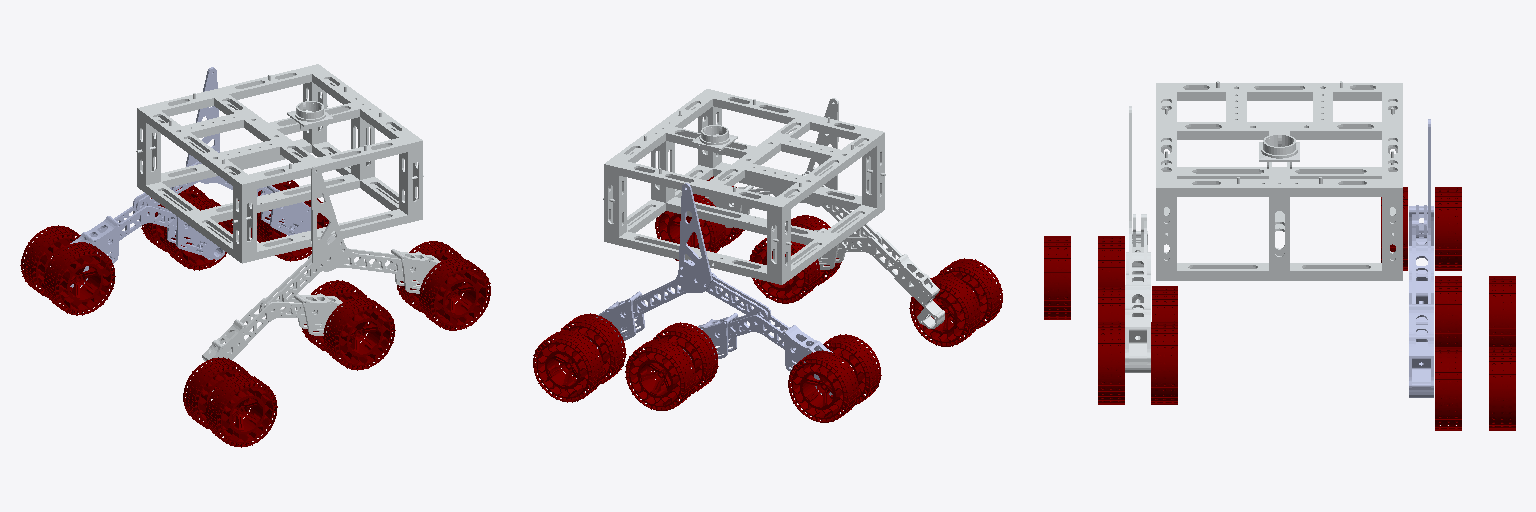
The robot description file, URDF, robot "rover_aug":
<?xml version="1.0" encoding="utf-8"?>
<!-- This URDF was automatically created by SolidWorks to URDF Exporter! Originally created by [author] ([email redacted]) 
     Commit Version: 1.6.0-1-g15f4949  Build Version: 1.6.7594.29634
     For more information, please see http://wiki.ros.org/sw_urdf_exporter -->
<robot
  name="rover_aug">
  <link
    name="base_link">
    <inertial>
      <origin
        xyz="-7.68865880621706E-05 -3.75493524628889E-06 0.595583448793911"
        rpy="0 0 0" />
      <mass
        value="12.7039342899441" />
      <inertia
        ixx="0.692252467134116"
        ixy="-5.63451292559757E-09"
        ixz="0.0100575847822606"
        iyy="0.743299764038894"
        iyz="8.67410154906556E-08"
        izz="1.15934417655828" />
    </inertial>
    <visual>
      <origin
        xyz="0 0 0"
        rpy="0 0 0" />
      <geometry>
        <mesh
          filename="package://rover_aug/meshes/base_link.STL" />
      </geometry>
      <material
        name="">
        <color
          rgba="0.898039215686275 0.917647058823529 0.929411764705882 1" />
      </material>
    </visual>
    <collision>
      <origin
        xyz="0 0 0"
        rpy="0 0 0" />
      <geometry>
        <mesh
          filename="package://rover_aug/meshes/base_link.STL" />
      </geometry>
    </collision>
  </link>
  <link
    name="front_right_sus">
    <inertial>
      <origin
        xyz="0.136433125534887 -0.0332393379583534 -0.0611547611979991"
        rpy="0 0 0" />
      <mass
        value="1.99138250908197" />
      <inertia
        ixx="0.0121364567649947"
        ixy="2.62695319158217E-08"
        ixz="0.00795796904621138"
        iyy="0.02723765710394"
        iyz="1.74744972853739E-09"
        izz="0.0151921384829287" />
    </inertial>
    <visual>
      <origin
        xyz="0 0 0"
        rpy="0 0 0" />
      <geometry>
        <mesh
          filename="package://rover_aug/meshes/front_right_sus.STL" />
      </geometry>
      <material
        name="">
        <color
          rgba="0.898039215686275 0.917647058823529 0.929411764705882 1" />
      </material>
    </visual>
    <collision>
      <origin
        xyz="0 0 0"
        rpy="0 0 0" />
      <geometry>
        <mesh
          filename="package://rover_aug/meshes/front_right_sus.STL" />
      </geometry>
    </collision>
  </link>
  <joint
    name="front_right_sus_joint"
    type="revolute">
    <origin
      xyz="-0.05 -0.31387 0.44008"
      rpy="0 0 0" />
    <parent
      link="base_link" />
    <child
      link="front_right_sus" />
    <axis
      xyz="0 1 0" />
    <limit
      lower="-0.22"
      upper="0.45"
      effort="10"
      velocity="10" />
  </joint>
  <link
    name="front_right_wheel">
    <inertial>
      <origin
        xyz="0.0370532323480084 -0.0303597313935384 -0.0651994919223058"
        rpy="0 0 0" />
      <mass
        value="1.34905188053119" />
      <inertia
        ixx="0.0041977586485634"
        ixy="-1.72864770841305E-08"
        ixz="-2.01407121899623E-08"
        iyy="0.00419775484691052"
        iyz="-2.33429746421604E-08"
        izz="0.00747592275269735" />
    </inertial>
    <visual>
      <origin
        xyz="0 0 0"
        rpy="0 0 0" />
      <geometry>
        <mesh
          filename="package://rover_aug/meshes/front_right_wheel.STL" />
      </geometry>
      <material
        name="">
        <color
          rgba="0.501960784313725 0 0 1" />
      </material>
    </visual>
    <collision>
      <origin
        xyz="0 0 0"
        rpy="0 0 0" />
      <geometry>
        <mesh
          filename="package://rover_aug/meshes/front_right_wheel.STL" />
      </geometry>
    </collision>
  </link>
  <joint
    name="front_right_wheel_joint"
    type="continuous">
    <origin
      xyz="0.39302 -0.09583 -0.18584"
      rpy="1.5708 1.3812 0" />
    <parent
      link="front_right_sus" />
    <child
      link="front_right_wheel" />
    <axis
      xyz="0 0 1" />
    <limit
      lower="-1.57"
      upper="1.57"
      effort="10"
      velocity="1" />
  </joint>
  <link
    name="rear_right_sus">
    <inertial>
      <origin
        xyz="0.0492053233838913 0.0223575540466921 -0.043374766413418"
        rpy="0 0 0" />
      <mass
        value="1.52083982765786" />
      <inertia
        ixx="0.00254373820317485"
        ixy="1.84922684741565E-08"
        ixz="-0.00185100721793512"
        iyy="0.0132812522483287"
        iyz="1.1745081092891E-08"
        izz="0.0108868095914462" />
    </inertial>
    <visual>
      <origin
        xyz="0 0 0"
        rpy="0 0 0" />
      <geometry>
        <mesh
          filename="package://rover_aug/meshes/rear_right_sus.STL" />
      </geometry>
      <material
        name="">
        <color
          rgba="0.898039215686275 0.917647058823529 0.929411764705882 1" />
      </material>
    </visual>
    <collision>
      <origin
        xyz="0 0 0"
        rpy="0 0 0" />
      <geometry>
        <mesh
          filename="package://rover_aug/meshes/rear_right_sus.STL" />
      </geometry>
    </collision>
  </link>
  <joint
    name="rear_right_sus_joint"
    type="revolute">
    <origin
      xyz="-0.18489 -0.052628 -0.11922"
      rpy="0 0 0" />
    <parent
      link="front_right_sus" />
    <child
      link="rear_right_sus" />
    <axis
      xyz="0 1 0" />
    <limit
      lower="0"
      upper="0.25"
      effort="10"
      velocity="1" />
  </joint>
  <link
    name="mid_right_wheel">
    <inertial>
      <origin
        xyz="-0.0147094140532489 -0.0397799348111056 -0.06519949189067"
        rpy="0 0 0" />
      <mass
        value="1.34905188071954" />
      <inertia
        ixx="0.00419775865036484"
        ixy="-1.72887490930461E-08"
        ixz="-2.01419243991342E-08"
        iyy="0.00419775484577203"
        iyz="-2.33428948088508E-08"
        izz="0.00747592275337244" />
    </inertial>
    <visual>
      <origin
        xyz="0 0 0"
        rpy="0 0 0" />
      <geometry>
        <mesh
          filename="package://rover_aug/meshes/mid_right_wheel.STL" />
      </geometry>
      <material
        name="">
        <color
          rgba="0.501960784313725 0 0 1" />
      </material>
    </visual>
    <collision>
      <origin
        xyz="0 0 0"
        rpy="0 0 0" />
      <geometry>
        <mesh
          filename="package://rover_aug/meshes/mid_right_wheel.STL" />
      </geometry>
    </collision>
  </link>
  <joint
    name="mid_right_wheel_joint"
    type="continuous">
    <origin
      xyz="0.26103 -0.042701 -0.11762"
      rpy="-1.5708 0.43537 3.1416" />
    <parent
      link="rear_right_sus" />
    <child
      link="mid_right_wheel" />
    <axis
      xyz="0 0 1" />
  </joint>
  <link
    name="rear_right_wheel">
    <inertial>
      <origin
        xyz="0.000844145563752896 -0.00713712135540498 -0.0651995080597744"
        rpy="0 0 0" />
      <mass
        value="1.34905188070645" />
      <inertia
        ixx="0.0041977458681189"
        ixy="1.3570186858762E-08"
        ixz="2.75416472052632E-08"
        iyy="0.00419776762797301"
        iyz="-1.38580268539671E-08"
        izz="0.00747592275332745" />
    </inertial>
    <visual>
      <origin
        xyz="0 0 0"
        rpy="0 0 0" />
      <geometry>
        <mesh
          filename="package://rover_aug/meshes/rear_right_wheel.STL" />
      </geometry>
      <material
        name="">
        <color
          rgba="0.501960784313725 0 0 1" />
      </material>
    </visual>
    <collision>
      <origin
        xyz="0 0 0"
        rpy="0 0 0" />
      <geometry>
        <mesh
          filename="package://rover_aug/meshes/rear_right_wheel.STL" />
      </geometry>
    </collision>
  </link>
  <joint
    name="rear_right_wheel_joint"
    type="continuous">
    <origin
      xyz="-0.20387 -0.042697 -0.20102"
      rpy="-1.5708 -0.83037 -3.1416" />
    <parent
      link="rear_right_sus" />
    <child
      link="rear_right_wheel" />
    <axis
      xyz="0 0 1" />
  </joint>
  <link
    name="front_left_sus">
    <inertial>
      <origin
        xyz="0.160063221345468 0.0284323647466828 -0.0936224727904925"
        rpy="0 0 0" />
      <mass
        value="1.42403449494965" />
      <inertia
        ixx="0.00648926506491619"
        ixy="2.63229263985611E-08"
        ixz="0.00446085335162024"
        iyy="0.0157904284411562"
        iyz="5.39606638625486E-10"
        izz="0.0093782073888862" />
    </inertial>
    <visual>
      <origin
        xyz="0 0 0"
        rpy="0 0 0" />
      <geometry>
        <mesh
          filename="package://rover_aug/meshes/front_left_sus.STL" />
      </geometry>
      <material
        name="">
        <color
          rgba="0.792156862745098 0.819607843137255 0.933333333333333 1" />
      </material>
    </visual>
    <collision>
      <origin
        xyz="0 0 0"
        rpy="0 0 0" />
      <geometry>
        <mesh
          filename="package://rover_aug/meshes/front_left_sus.STL" />
      </geometry>
    </collision>
  </link>
  <joint
    name="front_left_sus_joint"
    type="revolute">
    <origin
      xyz="-0.05 0.31487 0.44008"
      rpy="0 0 0" />
    <parent
      link="base_link" />
    <child
      link="front_left_sus" />
    <axis
      xyz="0 1 0" />
    <limit
      lower="-1.57"
      upper="1.57"
      effort="0"
      velocity="0" />
    <mimic
      joint="front_right_sus_joint"
      multiplier="-1"
      offset="0" />
  </joint>
  <link
    name="front_left_wheel">
    <inertial>
      <origin
        xyz="-0.0473924972221764 -0.000871844405642364 -0.0651995080104759"
        rpy="0 0 0" />
      <mass
        value="1.3490518805646" />
      <inertia
        ixx="0.00419774586867766"
        ixy="1.35675835000442E-08"
        ixz="2.75407258884244E-08"
        iyy="0.00419776762691034"
        iyz="-1.38585693325513E-08"
        izz="0.00747592275281224" />
    </inertial>
    <visual>
      <origin
        xyz="0 0 0"
        rpy="0 0 0" />
      <geometry>
        <mesh
          filename="package://rover_aug/meshes/front_left_wheel.STL" />
      </geometry>
      <material
        name="">
        <color
          rgba="0.501960784313725 0 0 1" />
      </material>
    </visual>
    <collision>
      <origin
        xyz="0 0 0"
        rpy="0 0 0" />
      <geometry>
        <mesh
          filename="package://rover_aug/meshes/front_left_wheel.STL" />
      </geometry>
    </collision>
  </link>
  <joint
    name="front_left_wheel_joint"
    type="continuous">
    <origin
      xyz="0.33056 0.095826 -0.28236"
      rpy="1.5708 0.93679 -3.1416" />
    <parent
      link="front_left_sus" />
    <child
      link="front_left_wheel" />
    <axis
      xyz="0 0 1" />
  </joint>
  <link
    name="rear_left_sus">
    <inertial>
      <origin
        xyz="-0.00338980046106252 -0.0222499999732845 -0.0826610515836156"
        rpy="0 0 0" />
      <mass
        value="1.90548278572856" />
      <inertia
        ixx="0.00285673050955862"
        ixy="5.24454317763157E-08"
        ixz="0.000378498286107578"
        iyy="0.0147823715837697"
        iyz="-2.15176326837993E-09"
        izz="0.0120709778343263" />
    </inertial>
    <visual>
      <origin
        xyz="0 0 0"
        rpy="0 0 0" />
      <geometry>
        <mesh
          filename="package://rover_aug/meshes/rear_left_sus.STL" />
      </geometry>
      <material
        name="">
        <color
          rgba="0.792156862745098 0.819607843137255 0.933333333333333 1" />
      </material>
    </visual>
    <collision>
      <origin
        xyz="0 0 0"
        rpy="0 0 0" />
      <geometry>
        <mesh
          filename="package://rover_aug/meshes/rear_left_sus.STL" />
      </geometry>
    </collision>
  </link>
  <joint
    name="rear_left_sus_joint"
    type="revolute">
    <origin
      xyz="-0.20119 0.052628 -0.089019"
      rpy="0 0 0" />
    <parent
      link="front_left_sus" />
    <child
      link="rear_left_sus" />
    <axis
      xyz="0 1 0" />
    <limit
      lower="-0.25"
      upper="0.25"
      effort="10"
      velocity="10" />
  </joint>
  <link
    name="mid_left_wheel">
    <inertial>
      <origin
        xyz="0.0181731848823113 -0.0156561046778341 -0.0651995080440856"
        rpy="0 0 0" />
      <mass
        value="1.34905188034585" />
      <inertia
        ixx="0.00419774586722092"
        ixy="1.35699477740768E-08"
        ixz="2.75411197167867E-08"
        iyy="0.00419776762765317"
        iyz="-1.38582029312659E-08"
        izz="0.00747592275210144" />
    </inertial>
    <visual>
      <origin
        xyz="0 0 0"
        rpy="0 0 0" />
      <geometry>
        <mesh
          filename="package://rover_aug/meshes/mid_left_wheel.STL" />
      </geometry>
      <material
        name="">
        <color
          rgba="0.501960784313725 0 0 1" />
      </material>
    </visual>
    <collision>
      <origin
        xyz="0 0 0"
        rpy="0 0 0" />
      <geometry>
        <mesh
          filename="package://rover_aug/meshes/mid_left_wheel.STL" />
      </geometry>
    </collision>
  </link>
  <joint
    name="mid_left_wheel_joint"
    type="continuous">
    <origin
      xyz="0.22084 0.043197 -0.14897"
      rpy="1.5708 1.2217 -3.1416" />
    <parent
      link="rear_left_sus" />
    <child
      link="mid_left_wheel" />
    <axis
      xyz="0 0 1" />
  </joint>
  <link
    name="rear_left_wheel">
    <inertial>
      <origin
        xyz="0.014188675554254 0.019340381031083 -0.0651994919570336"
        rpy="0 0 0" />
      <mass
        value="1.34905188036253" />
      <inertia
        ixx="0.00419775863940207"
        ixy="-1.72908143917161E-08"
        ixz="-2.01435567841546E-08"
        iyy="0.0041977548455044"
        iyz="-2.33400703533556E-08"
        izz="0.0074759227413912" />
    </inertial>
    <visual>
      <origin
        xyz="0 0 0"
        rpy="0 0 0" />
      <geometry>
        <mesh
          filename="package://rover_aug/meshes/rear_left_wheel.STL" />
      </geometry>
      <material
        name="">
        <color
          rgba="0.501960784313725 0 0 1" />
      </material>
    </visual>
    <collision>
      <origin
        xyz="0 0 0"
        rpy="0 0 0" />
      <geometry>
        <mesh
          filename="package://rover_aug/meshes/rear_left_wheel.STL" />
      </geometry>
    </collision>
  </link>
  <joint
    name="rear_left_wheel_joint"
    type="continuous">
    <origin
      xyz="-0.25109 0.042701 -0.12962"
      rpy="-1.5708 0.27096 0" />
    <parent
      link="rear_left_sus" />
    <child
      link="rear_left_wheel" />
    <axis
      xyz="0 0 1" />
  </joint>

  <gazebo>
    <plugin name="skid_steer_drive_controller" filename="libgazebo_ros_skid_steer_drive6.so">
      <updateRate>100.0</updateRate>
      <leftFrontJoint>front_left_wheel_joint</leftFrontJoint>
      <rightFrontJoint>front_right_wheel_joint</rightFrontJoint>
      <leftMidJoint>mid_left_wheel_joint</leftMidJoint>
      <rightMidJoint>mid_right_wheel_joint</rightMidJoint>
      <leftRearJoint>rear_left_wheel_joint</leftRearJoint>
      <rightRearJoint>rear_right_wheel_joint</rightRearJoint>
      <wheelSeparation>0.7</wheelSeparation>
      <wheelDiameter>0.1</wheelDiameter>
      <robotBaseFrame>chassis</robotBaseFrame>
      <torque>20</torque>
      <topicName>cmd_vel</topicName>
      <commandTopic>cmd_vel</commandTopic>
      <odometryTopic>odom</odometryTopic>
      <odometryFrame>odom</odometryFrame>
      <broadcastTF>true</broadcastTF>
      <legacyMode>false</legacyMode>
    </plugin>
  </gazebo>
</robot>

--- Facts derived from the render (not from the file) ---
3 views of the same robot in one strip: view 1: azimuth 30°, elevation 25°; view 2: azimuth 150°, elevation 25°; view 3: azimuth 270°, elevation 25° (orthographic).
Model rover_aug with 11 links and 10 joints (4 revolute, 6 continuous), rooted at base_link, posed all joints at 0.
Links seen in each view (by area): view 1: base_link, rear_right_wheel, rear_left_wheel, front_right_sus, front_right_wheel, mid_right_wheel, rear_right_sus, rear_left_sus, front_left_sus, mid_left_wheel, front_left_wheel; view 2: base_link, mid_left_wheel, front_left_wheel, rear_left_wheel, front_left_sus, rear_right_wheel, rear_right_sus, rear_left_sus, mid_right_wheel, front_right_sus, front_right_wheel; view 3: base_link, front_left_wheel, front_right_wheel, mid_left_wheel, rear_right_wheel, front_left_sus, front_right_sus, rear_left_wheel, mid_right_wheel, rear_left_sus, rear_right_sus.
Boxes of the visible links, <box> form: base_link: <box>136,64,423,263</box>; rear_right_wheel: <box>183,357,277,447</box>; rear_left_wheel: <box>20,225,115,315</box>; front_right_sus: <box>260,166,440,310</box>; front_right_wheel: <box>397,241,490,330</box>; mid_right_wheel: <box>302,280,395,370</box>; rear_right_sus: <box>202,293,342,391</box>; rear_left_sus: <box>68,202,224,287</box>; front_left_sus: <box>133,67,310,235</box>; mid_left_wheel: <box>141,185,232,270</box>; front_left_wheel: <box>238,180,328,261</box>; base_link: <box>603,89,885,284</box>; mid_left_wheel: <box>625,322,718,410</box>; front_left_wheel: <box>533,313,626,402</box>; rear_left_wheel: <box>788,334,881,422</box>; front_left_sus: <box>590,183,770,348</box>; rear_right_wheel: <box>909,258,1002,346</box>; rear_right_sus: <box>814,228,944,328</box>; rear_left_sus: <box>683,312,832,395</box>; mid_right_wheel: <box>749,215,841,303</box>; front_right_sus: <box>703,98,881,245</box>; front_right_wheel: <box>655,176,744,260</box>; base_link: <box>1156,81,1402,280</box>; front_left_wheel: <box>1435,347,1515,430</box>; front_right_wheel: <box>1098,322,1177,404</box>; mid_left_wheel: <box>1435,276,1515,346</box>; rear_right_wheel: <box>1044,236,1124,319</box>; front_left_sus: <box>1409,119,1433,397</box>; front_right_sus: <box>1125,106,1150,372</box>; rear_left_wheel: <box>1381,187,1461,270</box>; mid_right_wheel: <box>1098,286,1177,321</box>; rear_left_sus: <box>1409,206,1433,324</box>; rear_right_sus: <box>1126,231,1150,308</box>.
Bounding box of the posed robot: 1.05 × 1.15 × 0.724 m (x, y, z).
11 mesh visuals loaded from 11 distinct referenced files (11 binary STL).